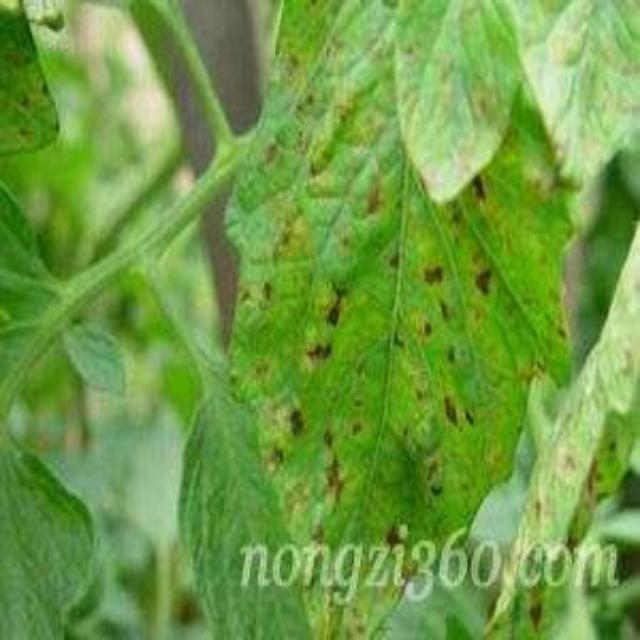Early_blight: (261, 399, 307, 436), (317, 278, 347, 330), (320, 454, 344, 508), (444, 393, 476, 432), (363, 172, 388, 220), (262, 446, 289, 476), (299, 338, 332, 362), (526, 593, 548, 628), (419, 259, 444, 289), (473, 264, 495, 298), (411, 311, 435, 342), (383, 521, 406, 549), (471, 172, 489, 203), (258, 278, 276, 305), (442, 342, 460, 367), (323, 421, 337, 452)
